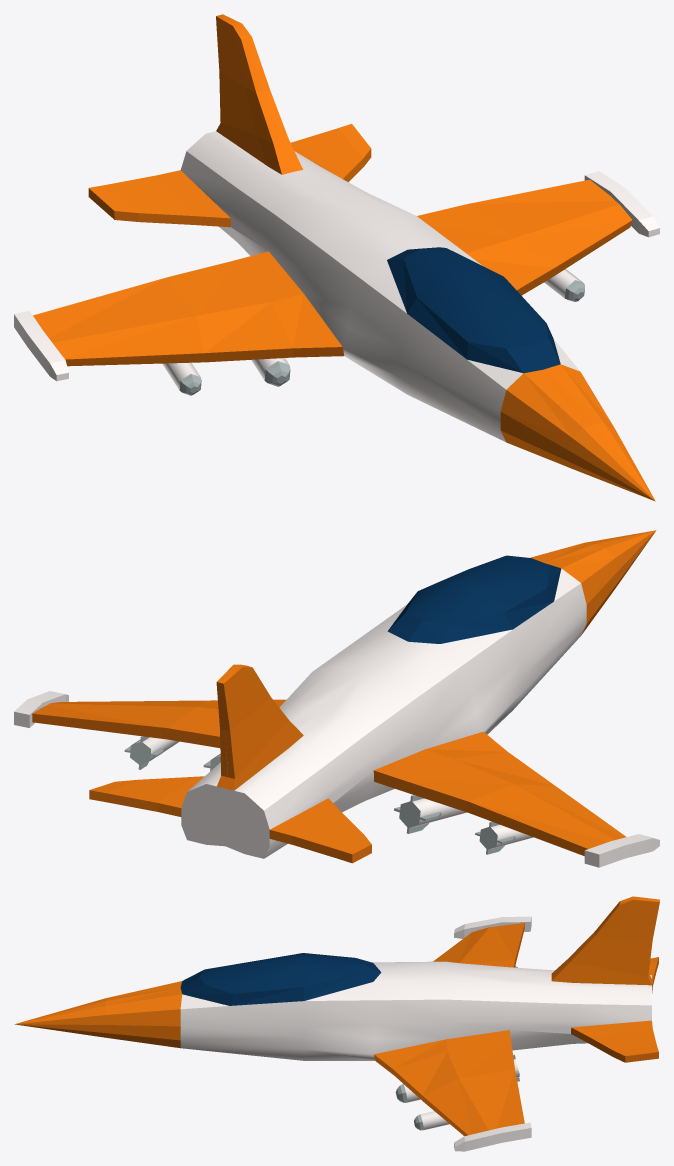
Rendered from jetfire.fbx.
3 views of the same model, one above another, from view 1: azimuth 30°, elevation 25°; view 2: azimuth 150°, elevation 25°; view 3: azimuth 270°, elevation 25° (orthographic). The views are drawn at different scales.
Visible parts, largest first — view 1: Jetfire; view 2: Jetfire; view 3: Jetfire.
Part boxes in pixels (x1,y1,x2,y2): Jetfire: (14, 14, 659, 501); Jetfire: (14, 530, 659, 867); Jetfire: (14, 896, 659, 1151).
Bounding box in the file's own units: 699 × 244 × 876.
Materials: 1 (1 with a texture image).
